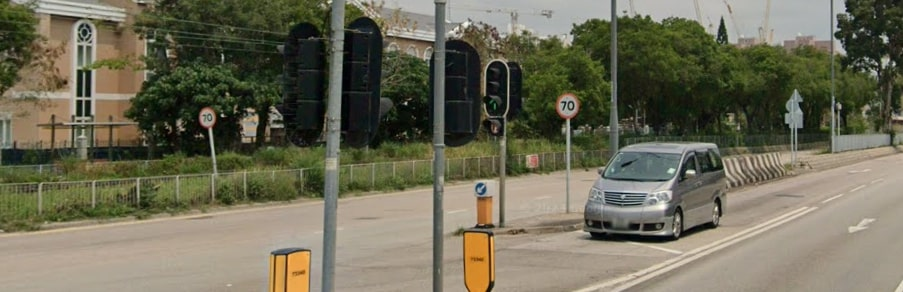Speed Limit: (556, 90, 581, 126), (196, 100, 216, 128)
